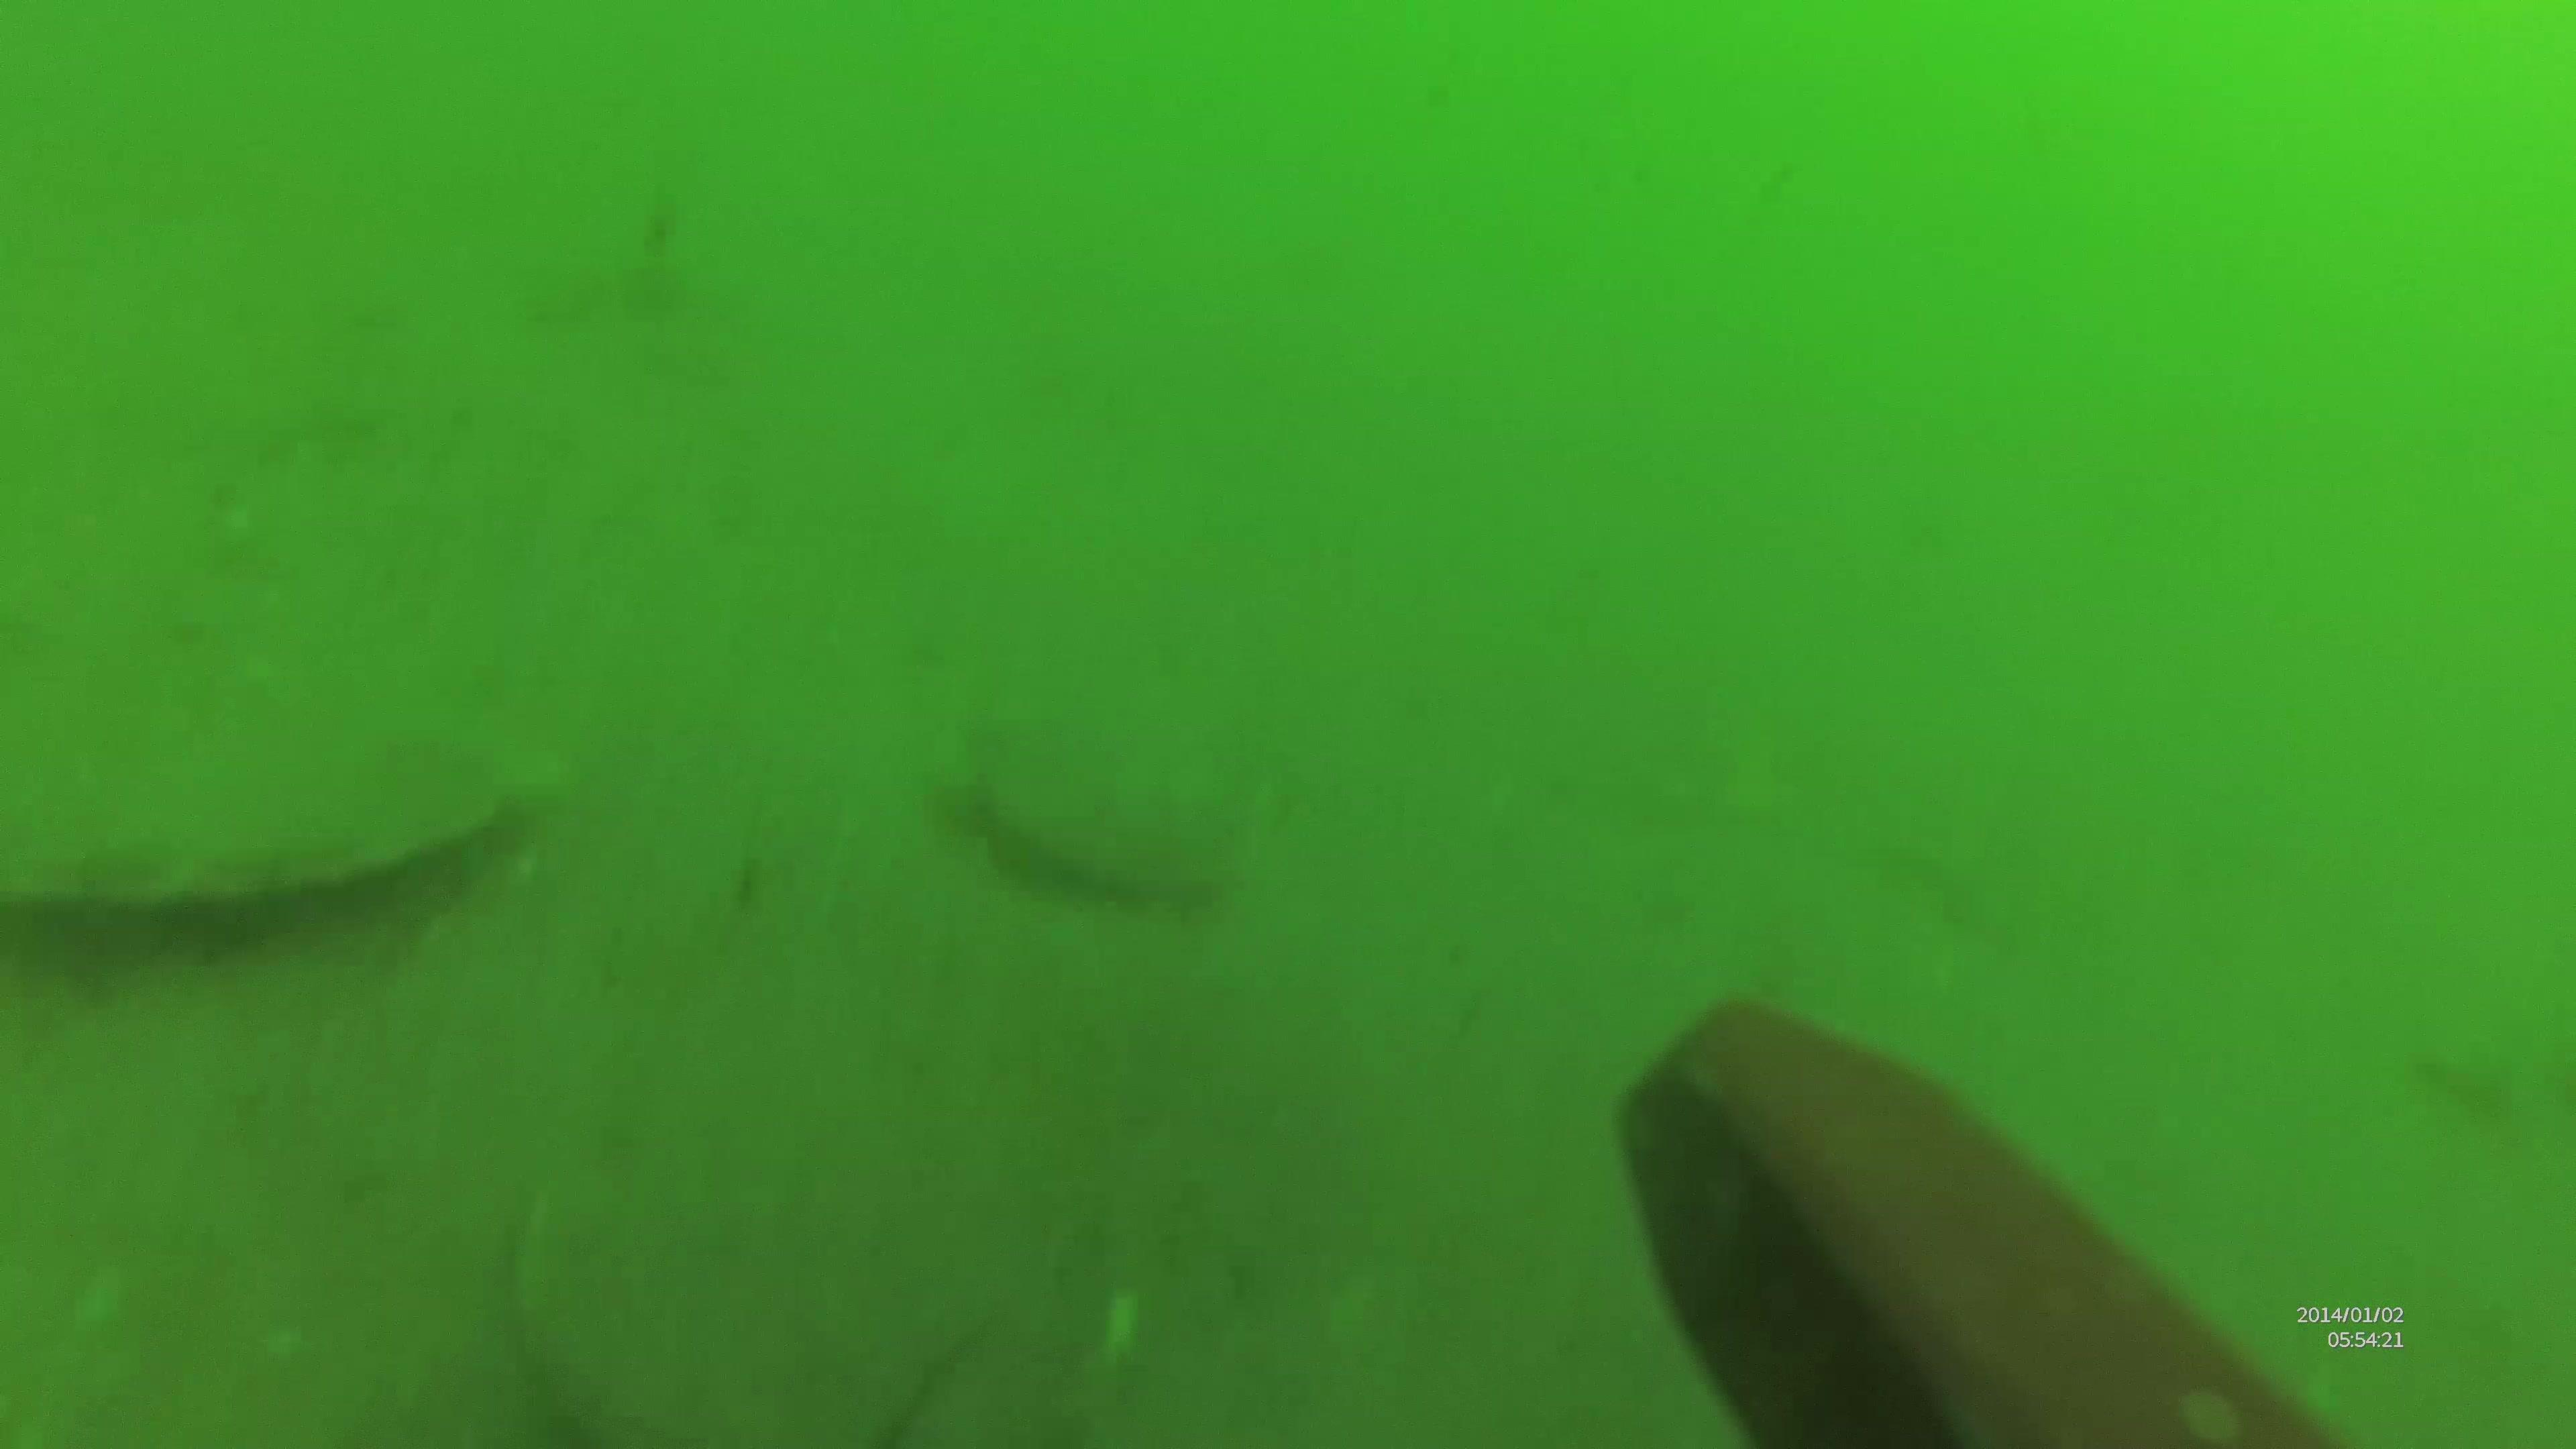scallop: (497, 1155, 961, 1449), (0, 692, 518, 927)
